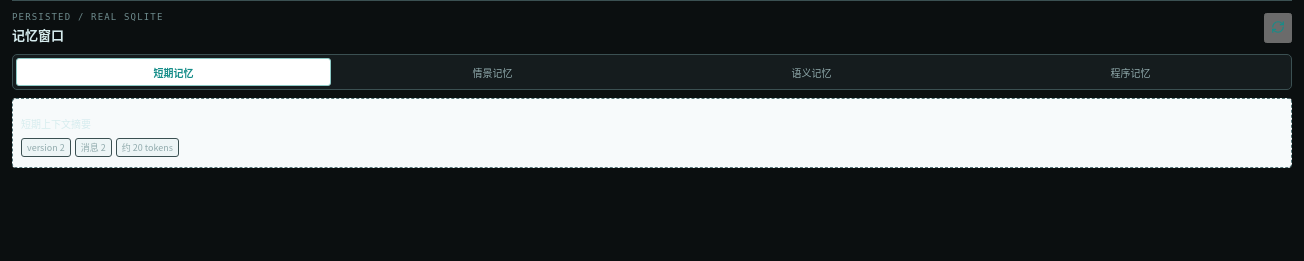
Test: MemoryWindow › renders all memory families, metadata, versions, and refreshes after deletion
Expected: the text "短期上下文摘要" is shown, [21, 116, 91, 131]
Expected: the button "短期记忆" is shown, [16, 58, 331, 86]
Click the button "情景记忆": (492, 72) [335, 58, 650, 86]
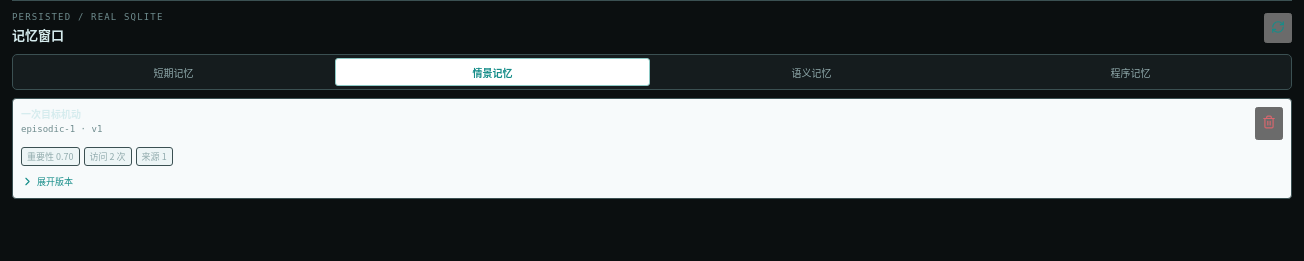
Expected: the text "v1" is shown, [92, 124, 102, 134]
Expected: the text "重要性 0.70" is shown, [21, 147, 80, 166]
Expected: the text "访问 2 次" is shown, [84, 147, 132, 166]
Click the button with aria-label "展开版本 episodic-1": (47, 182) [21, 173, 73, 190]
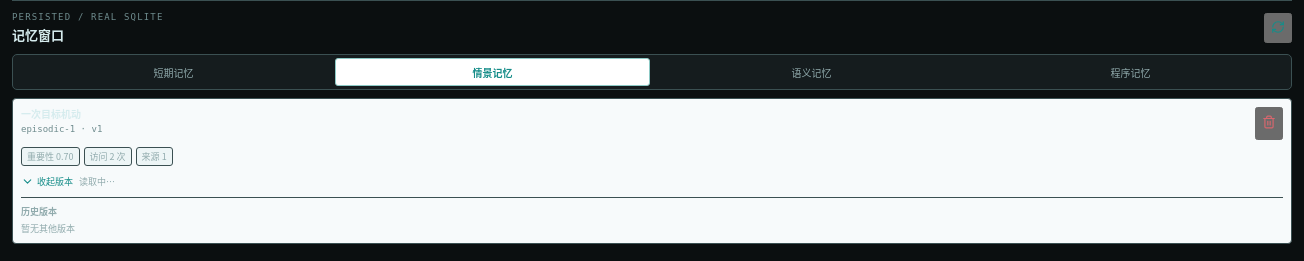
Expected: the text "历史版本" is shown, [21, 205, 57, 218]
Click the button named "删除记忆 episodic-1": (1269, 124) [1255, 107, 1283, 140]
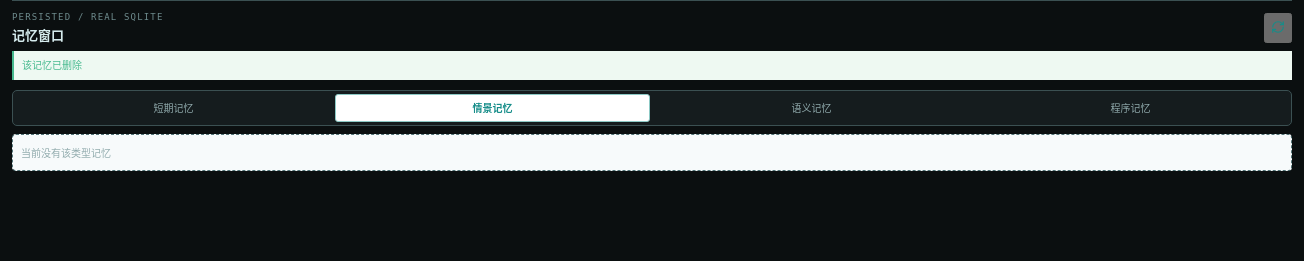
Expected: the text "该记忆已删除" is shown, [12, 51, 1292, 80]
